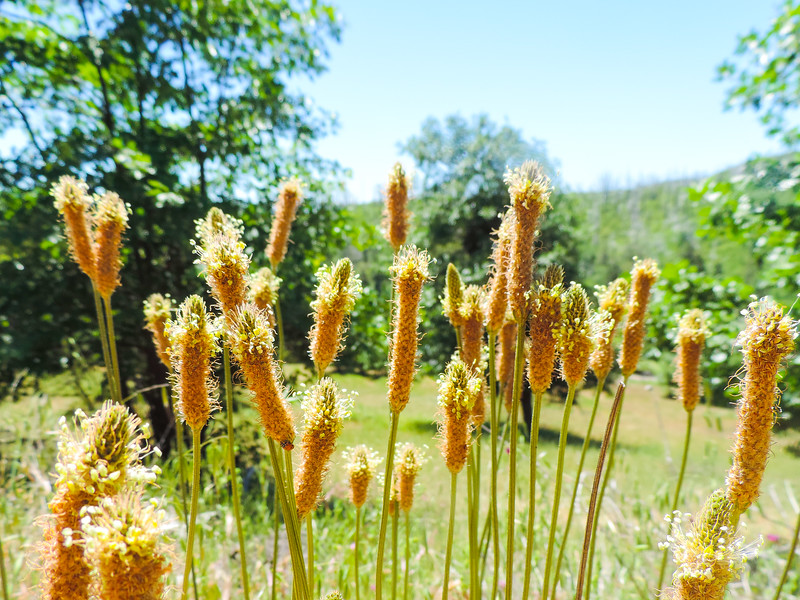buckhorn plantain: (45, 148, 784, 600)
